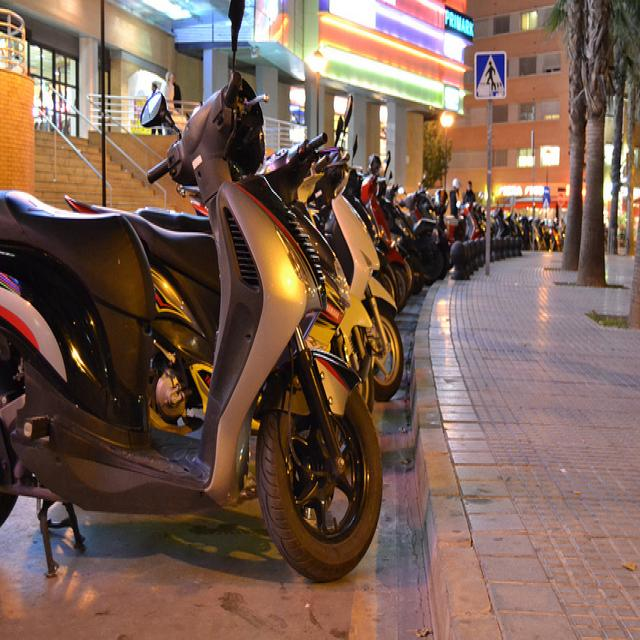motor: (0, 0, 386, 584), (65, 131, 350, 440), (306, 166, 403, 402), (360, 153, 409, 314), (378, 150, 426, 295), (391, 173, 444, 281), (331, 280, 373, 414), (423, 186, 451, 274), (446, 201, 483, 244), (541, 222, 565, 252), (489, 208, 512, 238), (517, 215, 533, 250), (505, 214, 522, 237)
